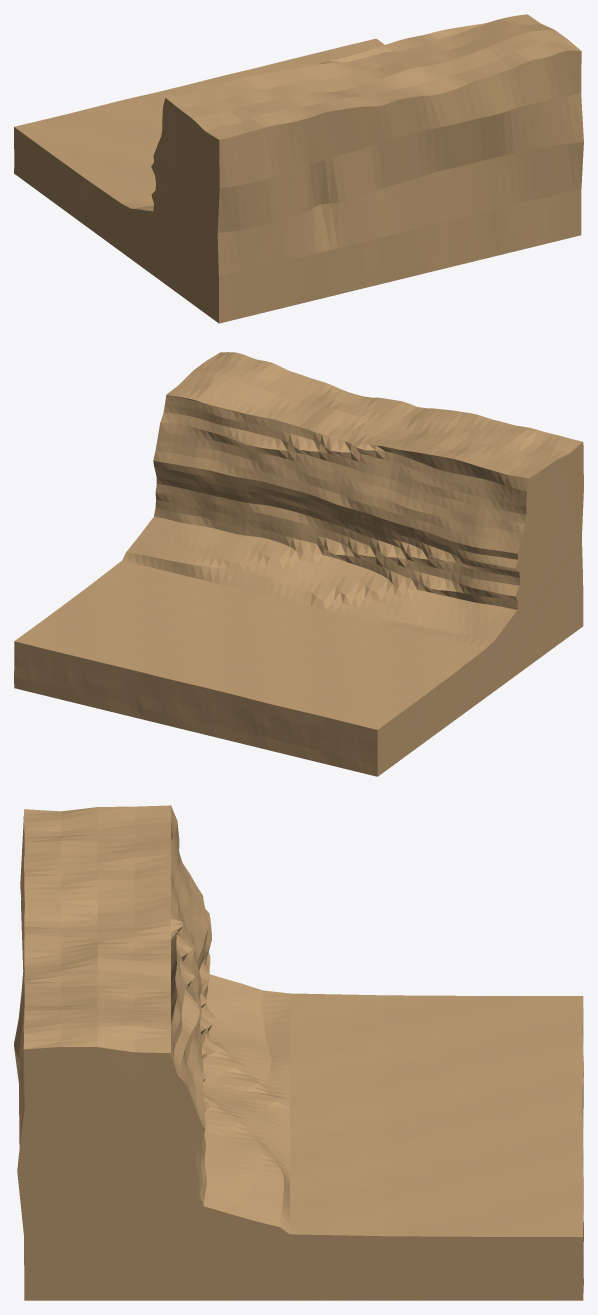
Rendered from bed_cut.glb.
3 views of the same model, one above another, from view 1: azimuth 30°, elevation 25°; view 2: azimuth 150°, elevation 25°; view 3: azimuth 270°, elevation 25° (orthographic). The views are drawn at different scales.
Parts seen in each view (by area): view 1: CutStudy; view 2: CutStudy; view 3: CutStudy.
Boxes of the visible parts, x1,y1,x2,y2 form: CutStudy: (14, 14, 583, 323); CutStudy: (14, 352, 583, 776); CutStudy: (14, 805, 583, 1300).
Bounding box in the file's own units: 8 × 4 × 8.
